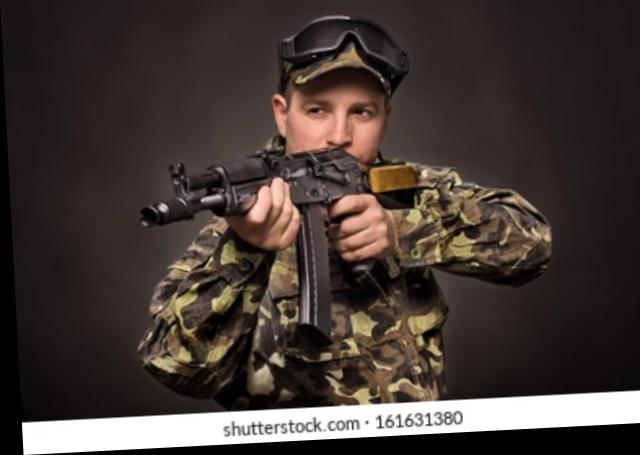other: (124, 17, 550, 398)
